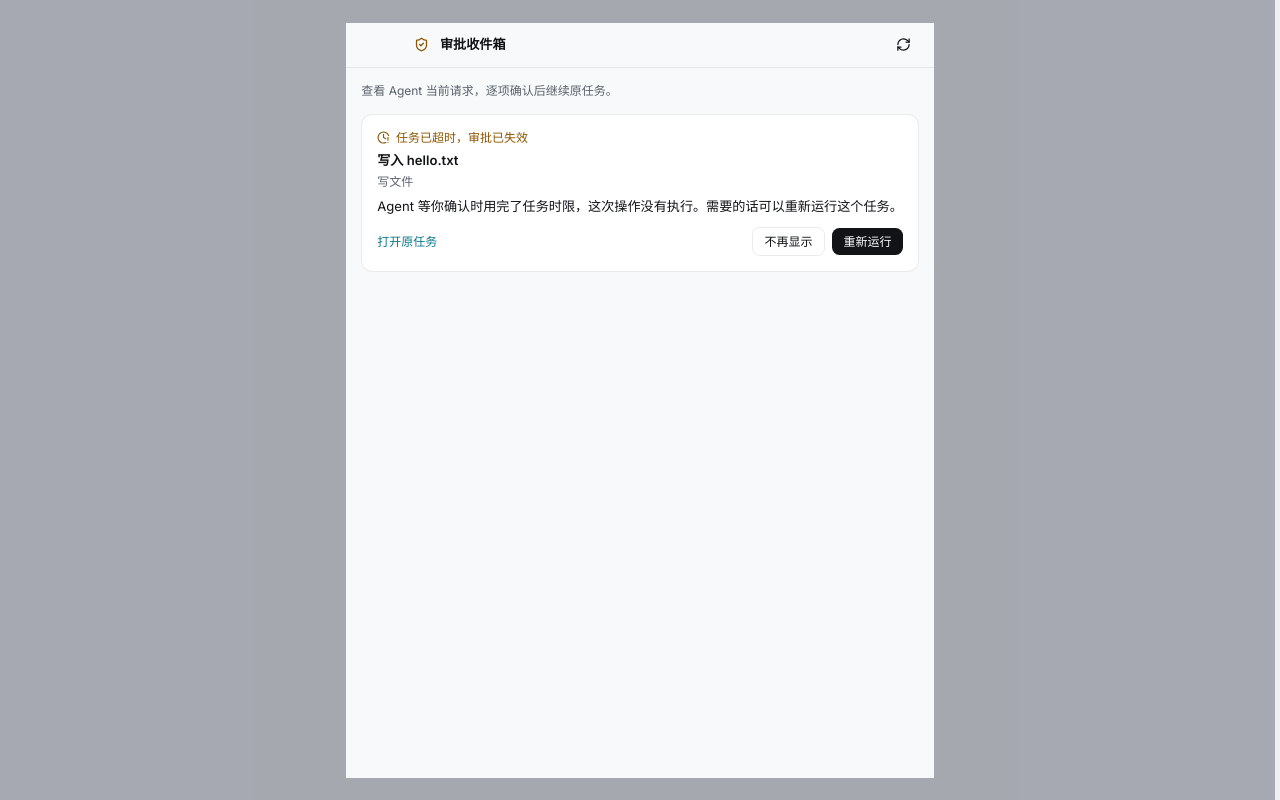
Test: approvals that ran out with the task's time limit › lets the owner remove the notice for good
Click the button "不再显示".
click(788, 242)  # box top-left (752, 227), bottom-right (825, 256)
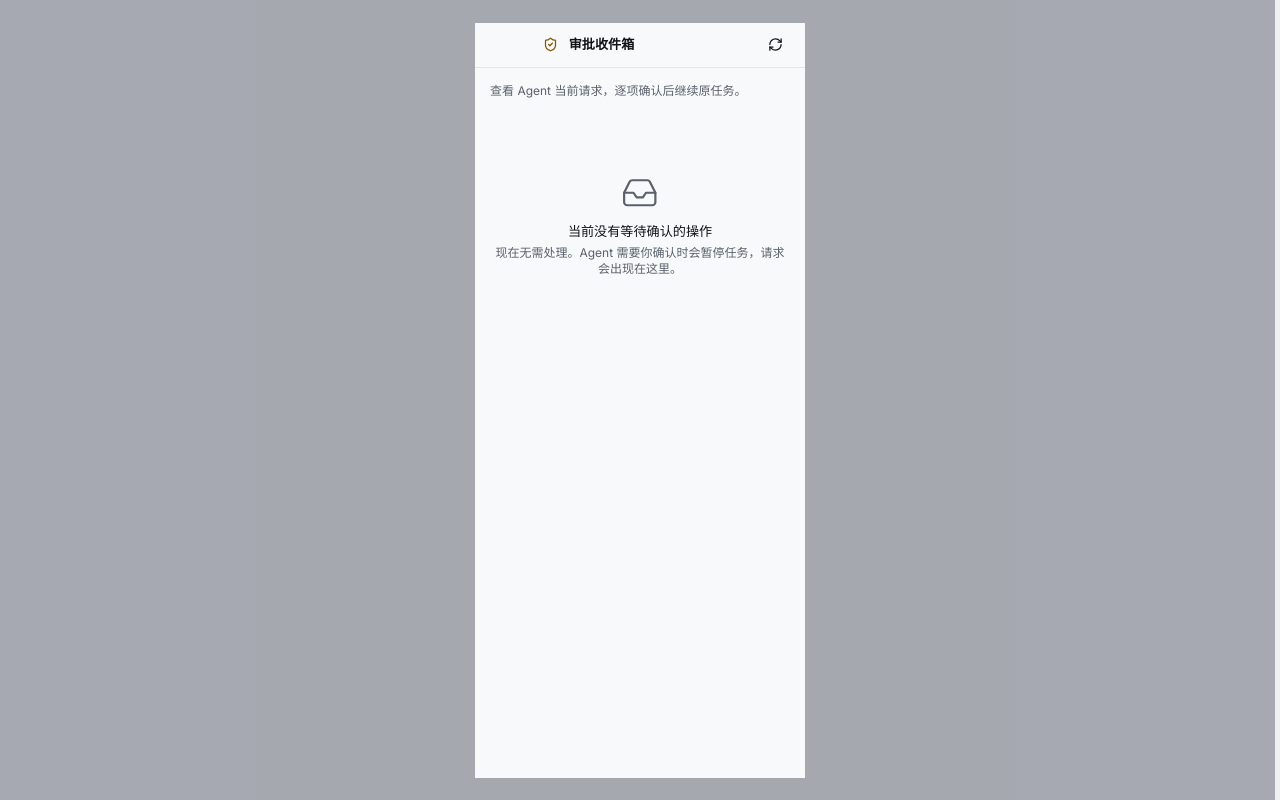
Expected: the text "当前没有等待确认的操作" is shown, top-left (568, 222), bottom-right (712, 241)
